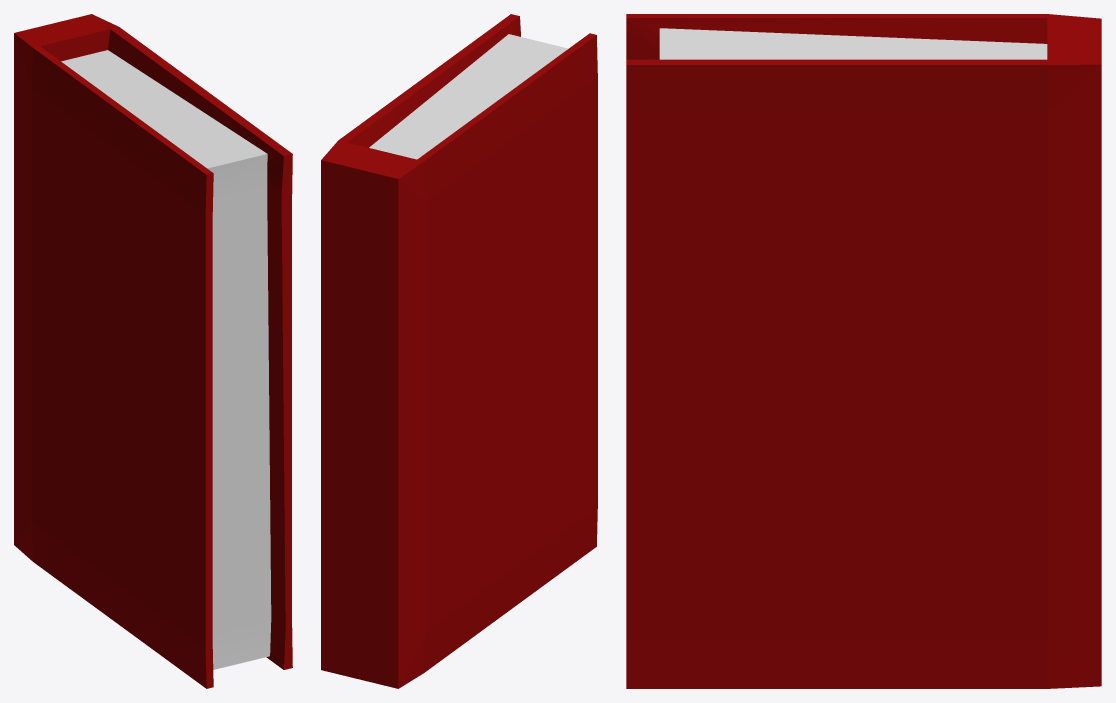
File: Midium_Book_Red.fbx
3 renders of one model, left to right at view 1: azimuth 30°, elevation 25°; view 2: azimuth 150°, elevation 25°; view 3: azimuth 270°, elevation 25°, orthographic. The views are drawn at different scales.
Parts seen in each view (by area): view 1: Book2; view 2: Book2; view 3: Book2.
Part boxes in pixels (x1,y1,x2,y2): Book2: [14, 14, 292, 688]; Book2: [321, 14, 597, 688]; Book2: [626, 14, 1101, 688].
Bounding box in the file's own units: 0.0687 × 0.3868 × 0.267.
